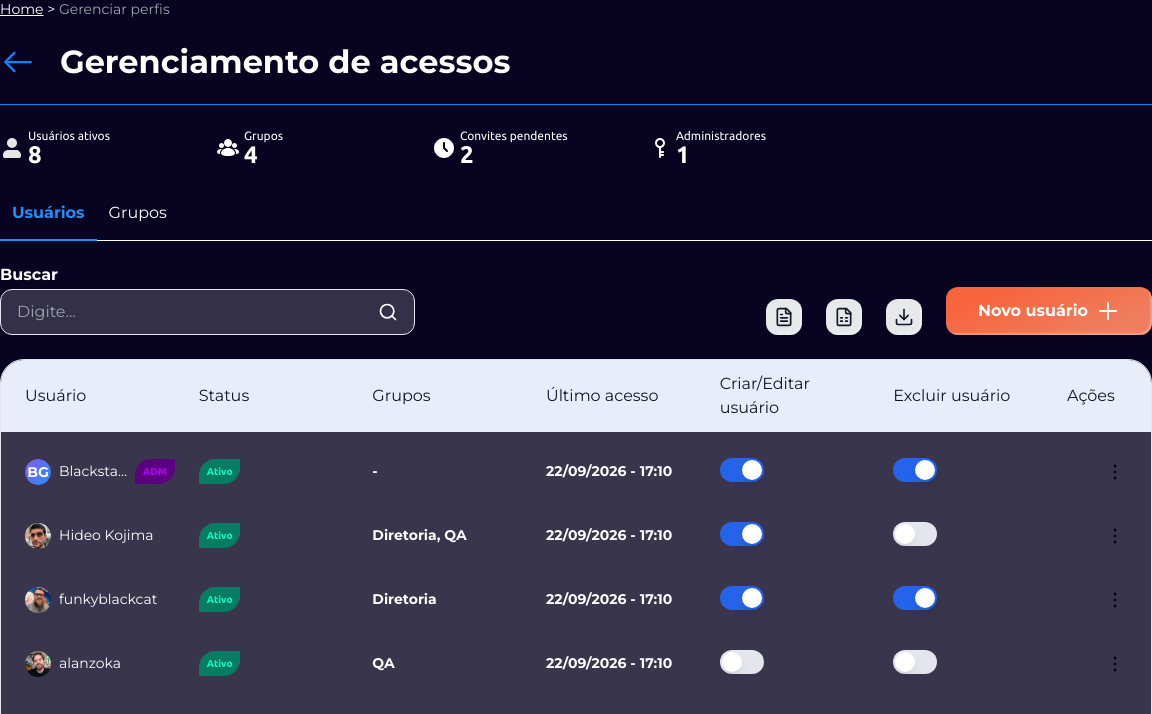
Test: filtra os usuários pela busca
Check: the text "Hideo Kojima" is shown, box [59,526,154,545]
Type "hideo" into the field with placeholder "Digite...". click: (192, 312)
box: [17,300,366,324]
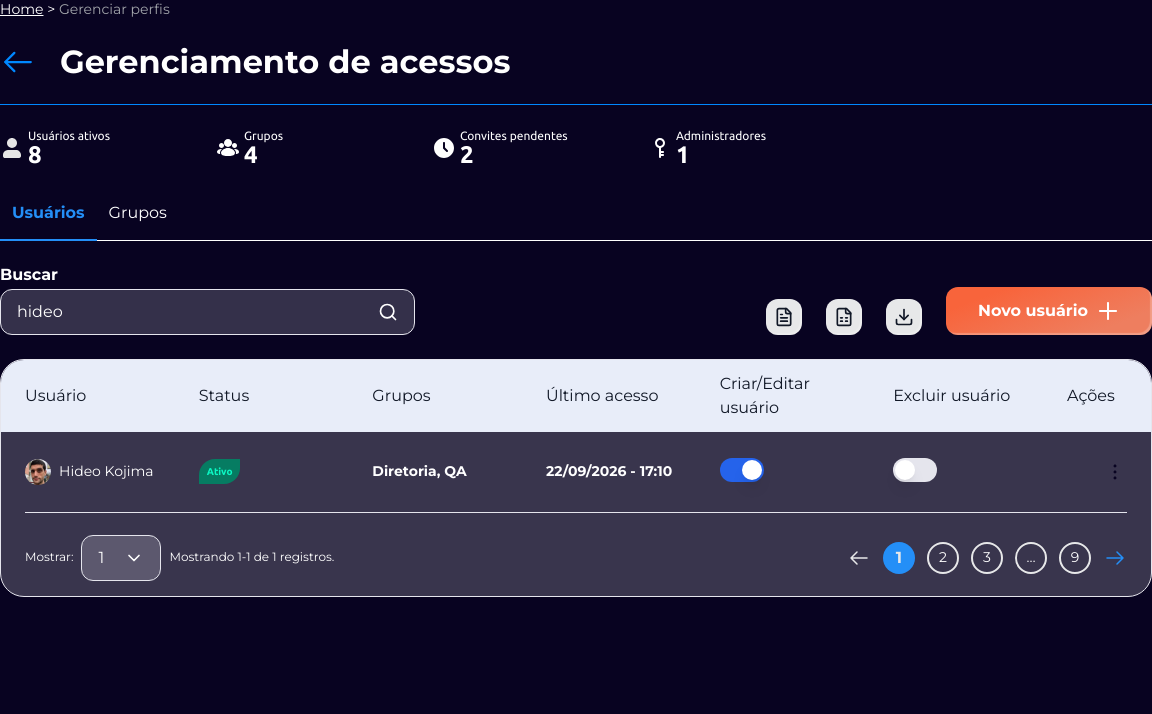
Check: the number of buttons named "Ações de" is 1, box [1103,460,1127,484]
Check: the text "funkyblackcat" is gone
